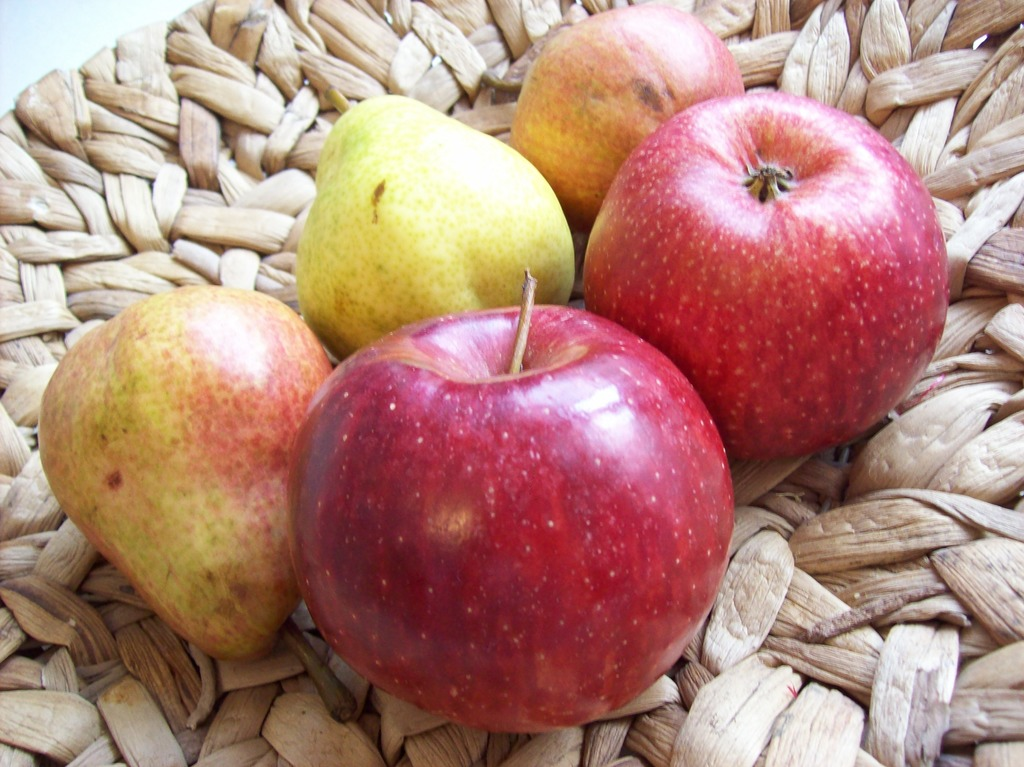Apple: (287, 265, 734, 733), (575, 92, 944, 460), (509, 2, 747, 228)
